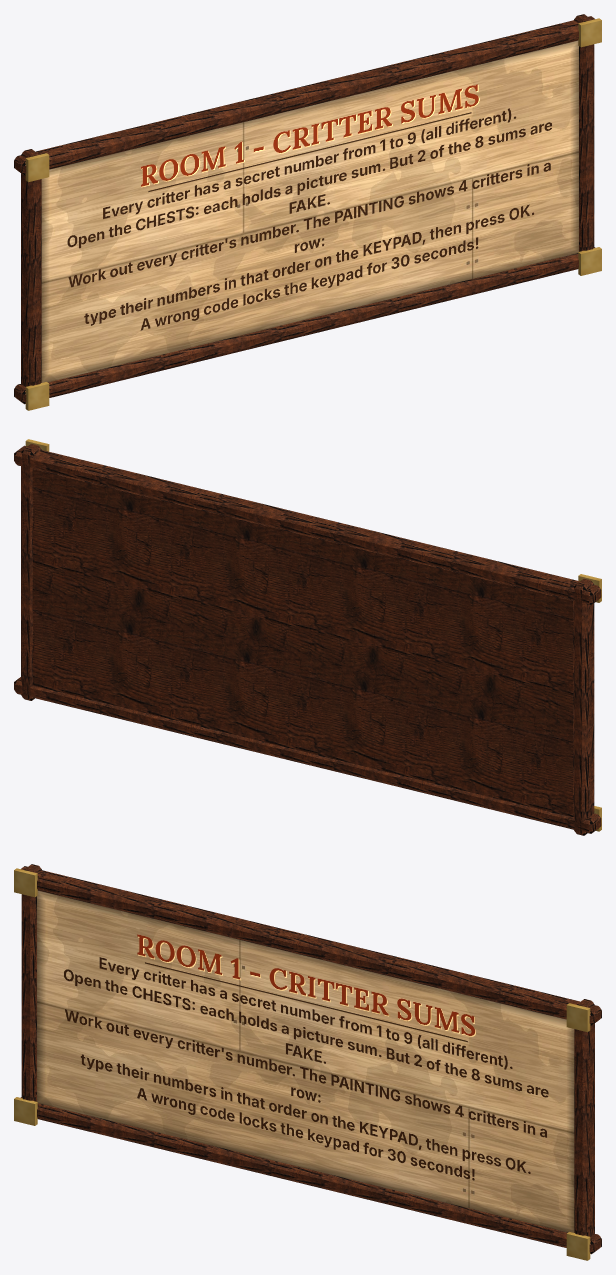
The model's file is sg_esc_r1.glb.
The picture shows the model from 3 angles, top to bottom: view 1: azimuth 30°, elevation 25°; view 2: azimuth 150°, elevation 25°; view 3: azimuth 330°, elevation 25°; orthographic projection.
Visible parts, largest first — view 1: spire; view 2: spire; view 3: spire.
Part boxes in pixels (x1=…): spire: x1=14, y1=14, x2=601, y2=410; spire: x1=14, y1=439, x2=601, y2=835; spire: x1=14, y1=864, x2=601, y2=1260.
Size of the model in its own units: 4.96 by 2.05 by 0.19.
Materials: 3 (3 with a texture image).
